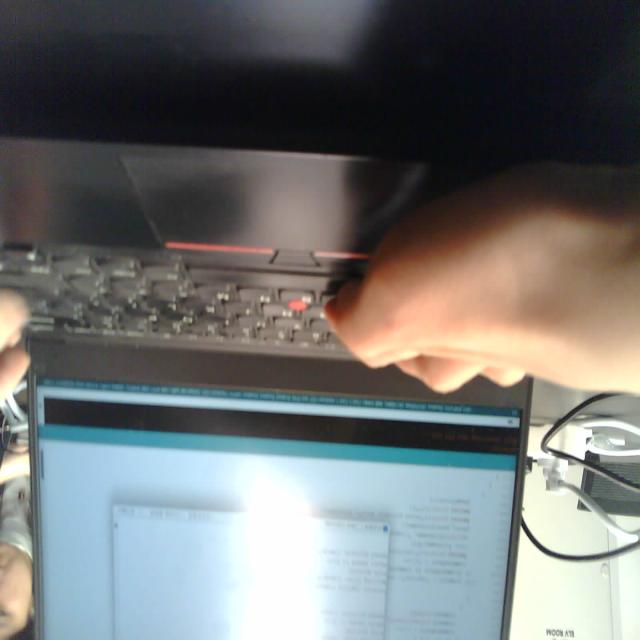keyboard-with-hands: (0, 127, 538, 376)
